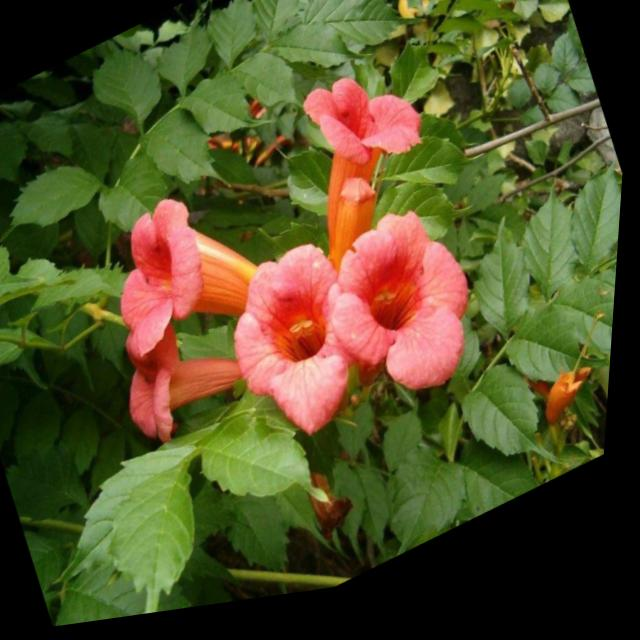Flower: (203, 225, 409, 479), (303, 192, 508, 443), (95, 161, 306, 392), (284, 35, 465, 288)
